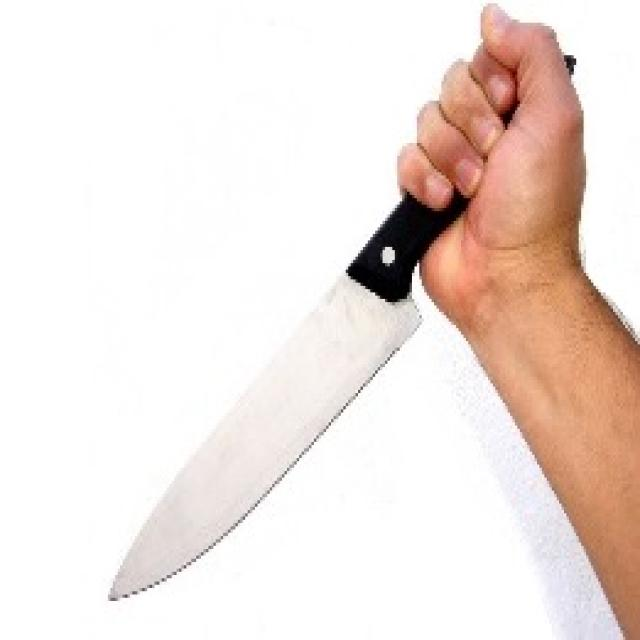knife: (103, 204, 443, 618)
